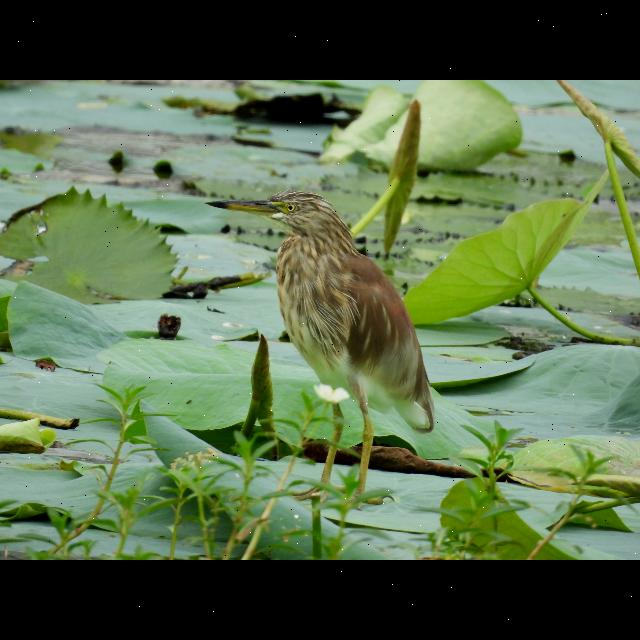heron: (202, 180, 448, 512)
